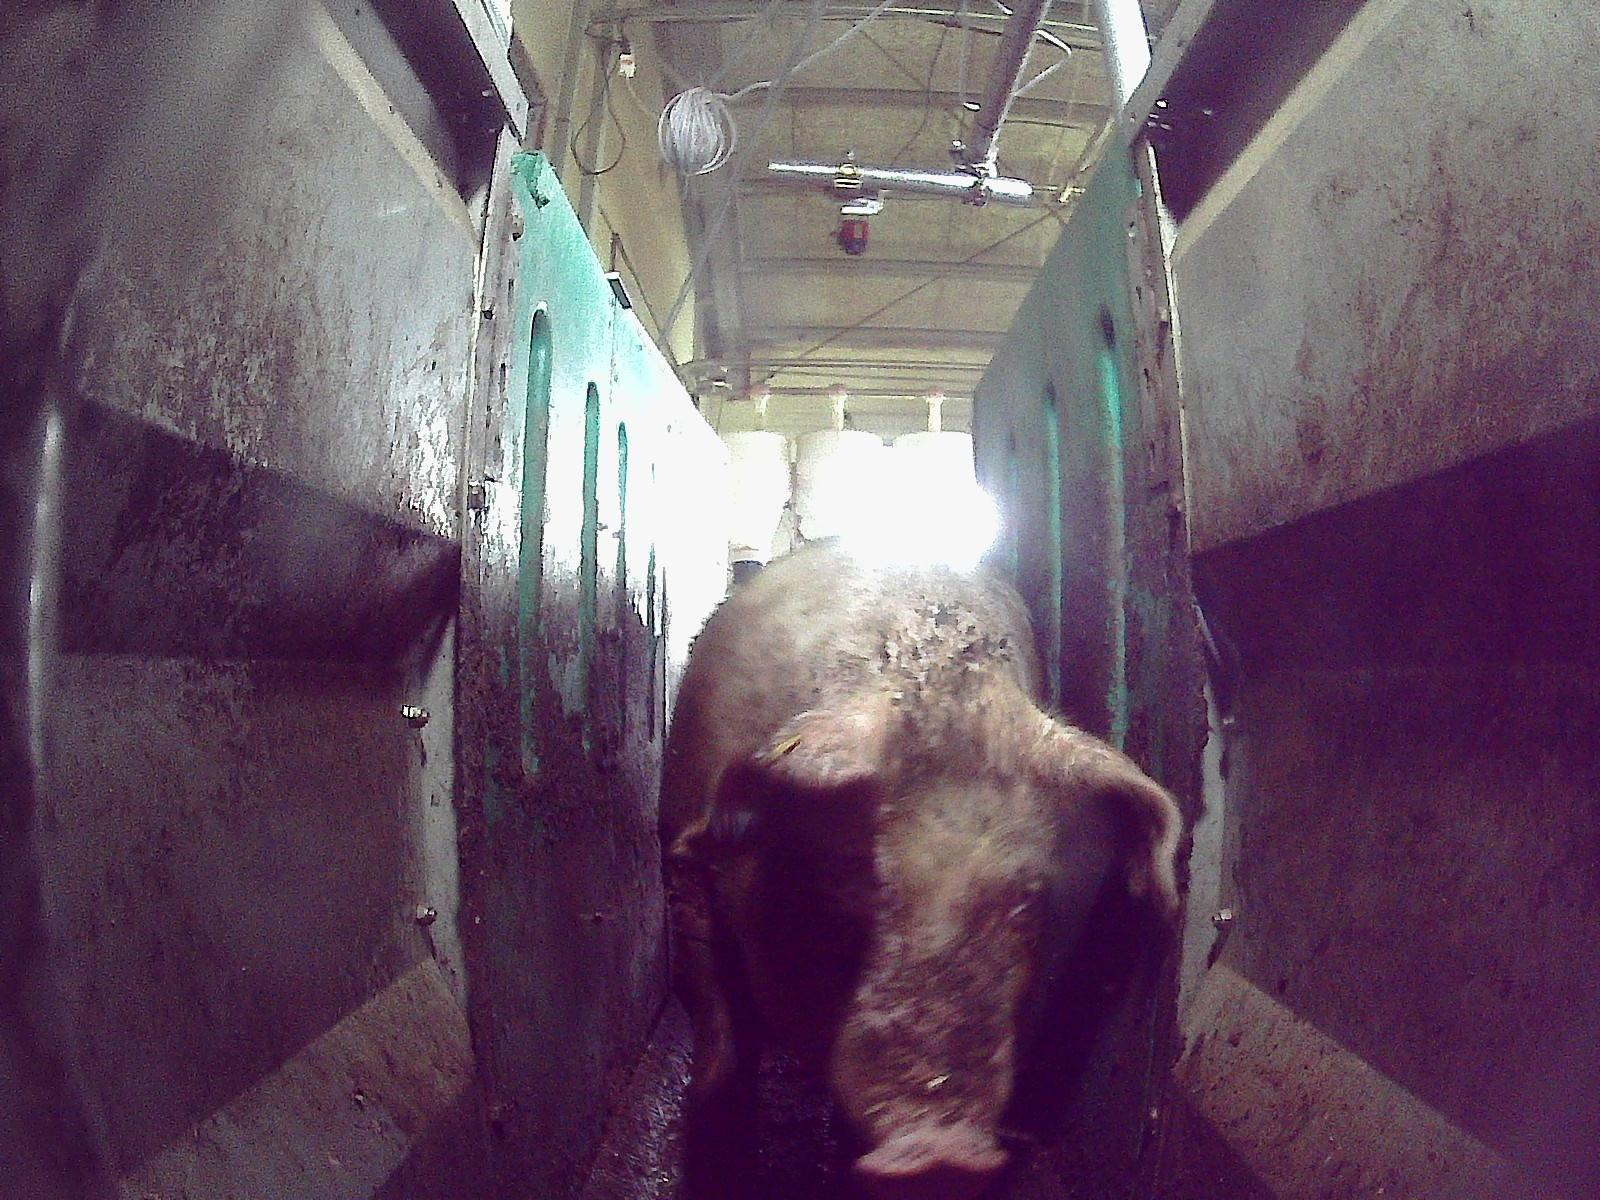Face: (723, 674, 1078, 1192)
